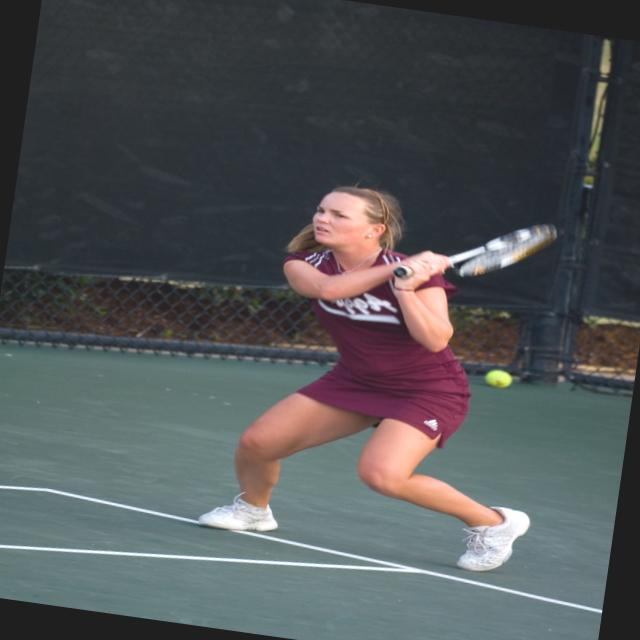Tennis Ball: (486, 369, 513, 390)
